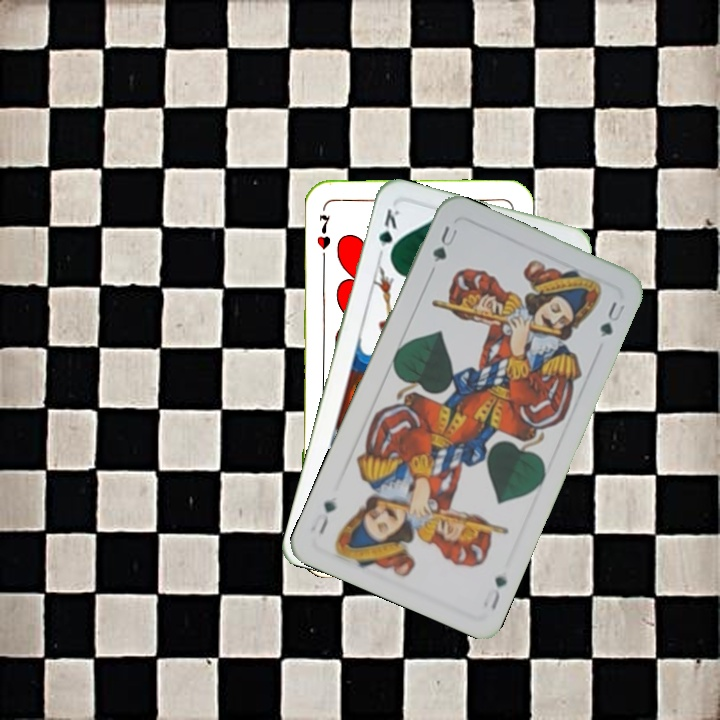GK: (374, 204, 403, 262)
GU: (428, 221, 461, 266), (479, 572, 510, 613)
H7: (312, 210, 333, 252)
